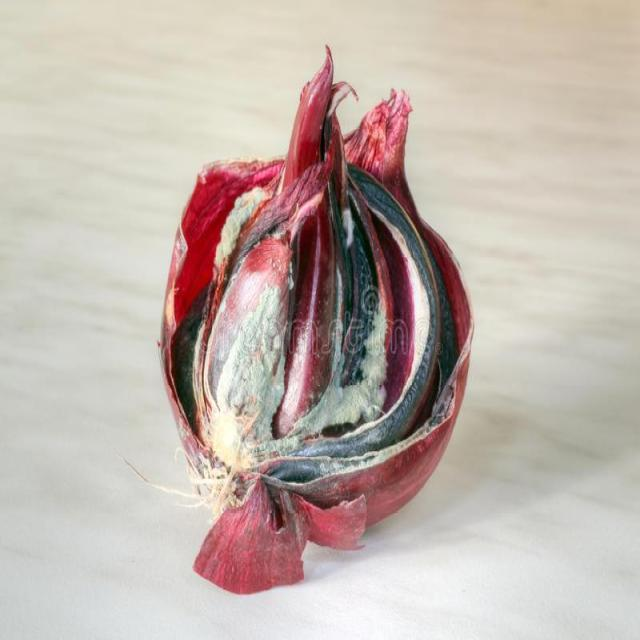Onion: (154, 37, 476, 597)
